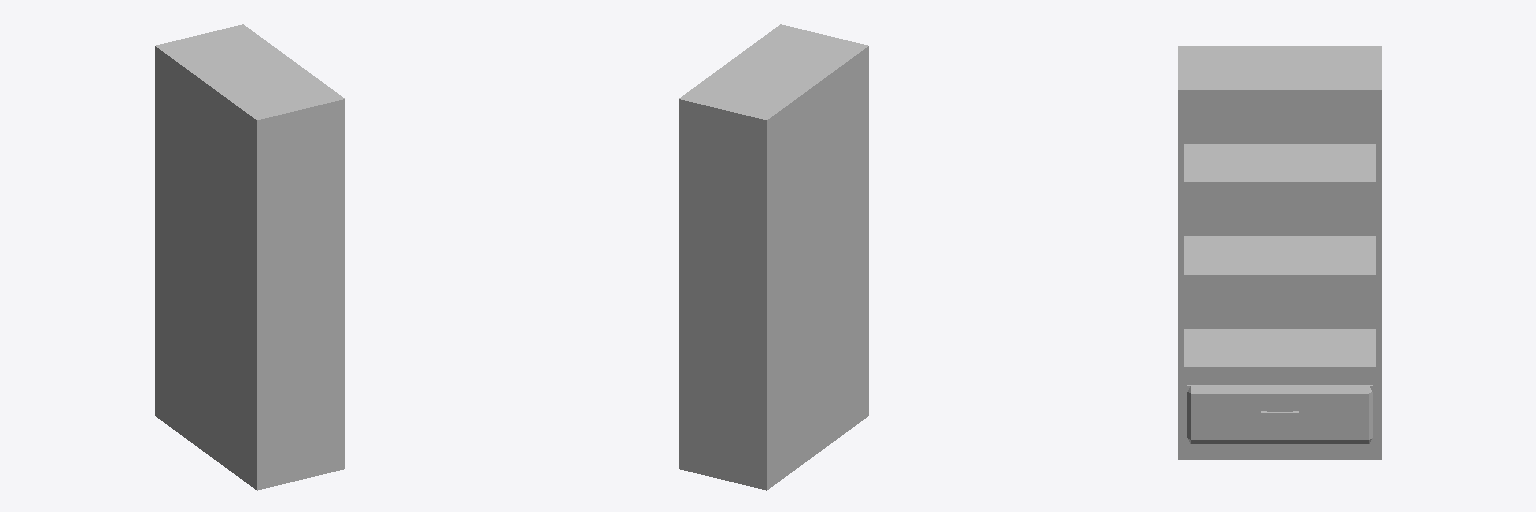
Rendered from bookshelf.obj.
3 views of the same model, side by side, from view 1: azimuth 30°, elevation 25°; view 2: azimuth 150°, elevation 25°; view 3: azimuth 270°, elevation 25° (orthographic).
Parts seen in each view (by area): view 1: pasted__pCube1 group6; view 2: pasted__pCube1 group6; view 3: pasted__pCube1 group6.
Boxes of the visible parts, x1,y1,x2,y2 form: pasted__pCube1 group6: [155, 24, 344, 490]; pasted__pCube1 group6: [679, 24, 868, 490]; pasted__pCube1 group6: [1178, 46, 1381, 459].
Size of the model in its own units: 0.5661 by 2 by 1.